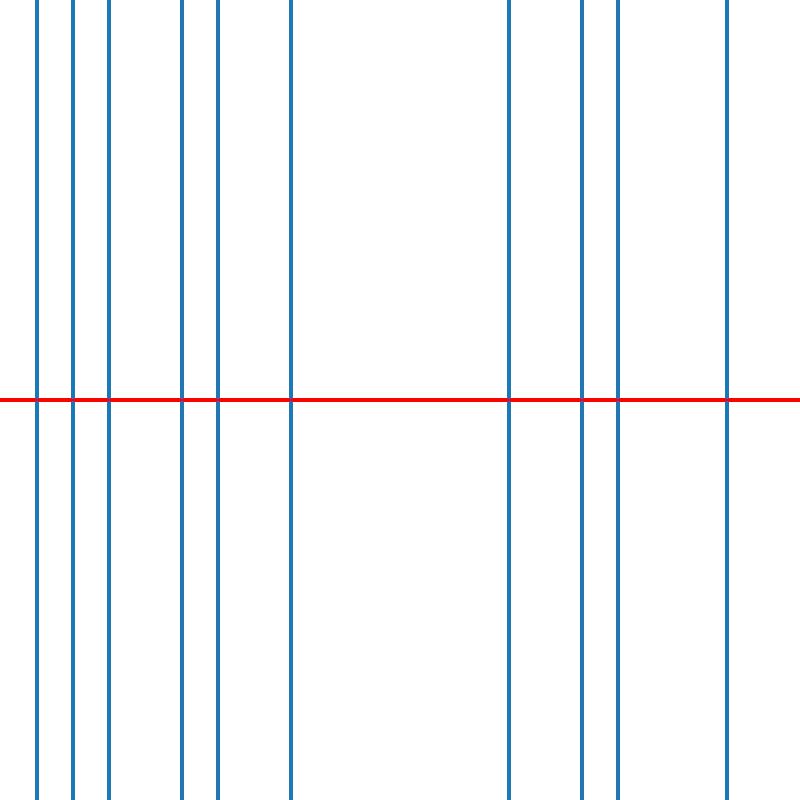root: (32, 396, 40, 404), (105, 396, 112, 404), (287, 396, 294, 404), (578, 396, 585, 404), (505, 396, 512, 404), (214, 396, 221, 404), (614, 396, 621, 404), (69, 396, 76, 404), (178, 396, 185, 404), (723, 396, 730, 404)
